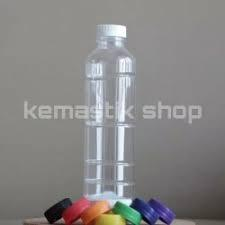BIODEGRADABLE: (69, 22, 156, 203)
